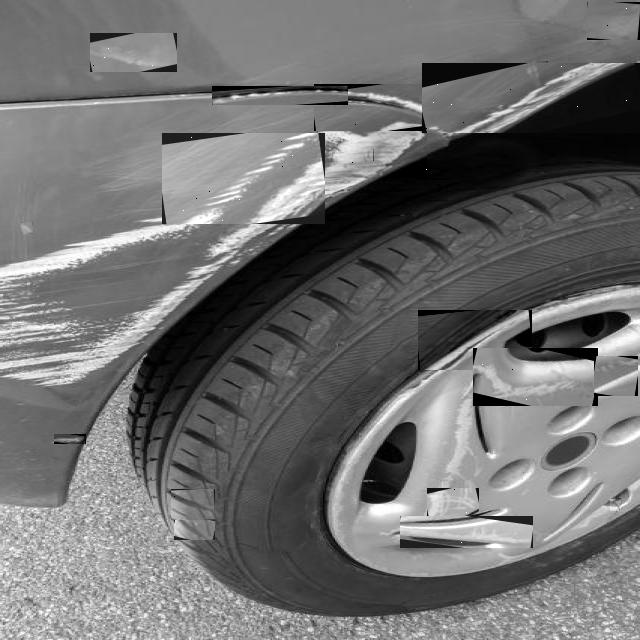Dent: (422, 63, 640, 133), (162, 133, 325, 224), (473, 348, 598, 406), (418, 310, 532, 370), (314, 84, 452, 131), (317, 122, 427, 178), (400, 516, 533, 548), (90, 33, 177, 72), (212, 86, 348, 105), (587, 2, 640, 40), (594, 356, 638, 396), (427, 488, 479, 519), (171, 489, 215, 520), (174, 516, 215, 540), (535, 61, 548, 89), (54, 434, 86, 444), (608, 498, 620, 511), (622, 64, 640, 72), (21, 222, 33, 234), (365, 149, 374, 161)
